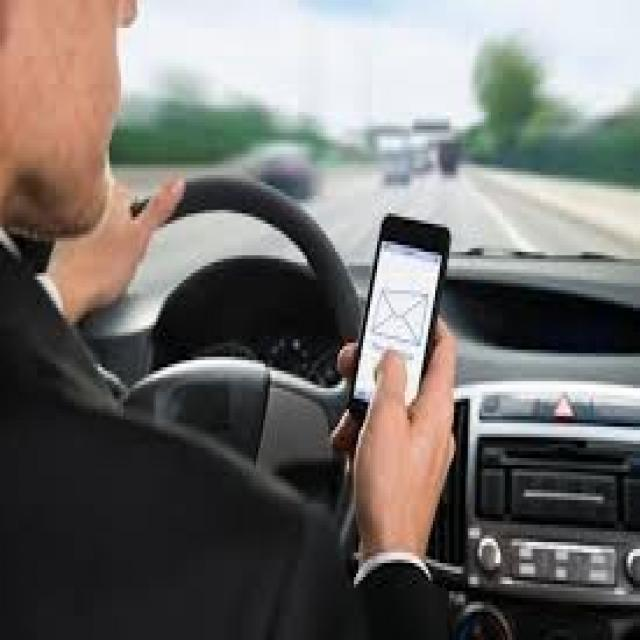Cellphone_texting: (333, 206, 463, 549)
